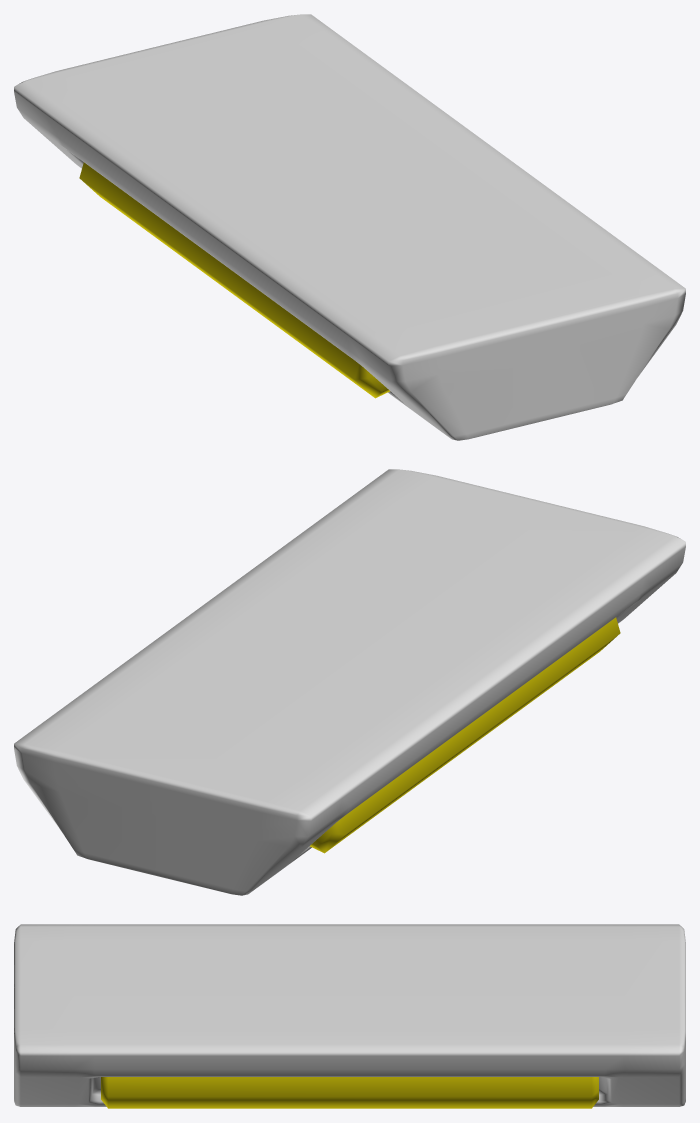
File: CeilingLamp_V1.fbx
3 views of the same model, one above another, from view 1: azimuth 30°, elevation 25°; view 2: azimuth 150°, elevation 25°; view 3: azimuth 270°, elevation 25° (orthographic). The views are drawn at different scales.
Parts seen in each view (by area): view 1: CeilingLamp_V1; view 2: CeilingLamp_V1; view 3: CeilingLamp_V1.
Boxes of the visible parts, box(x1,y1,x2,y2) form: CeilingLamp_V1: box(14, 14, 685, 440); CeilingLamp_V1: box(14, 469, 685, 895); CeilingLamp_V1: box(14, 924, 685, 1108).
Bounding box in the file's own units: 67.28 × 21.43 × 150.
